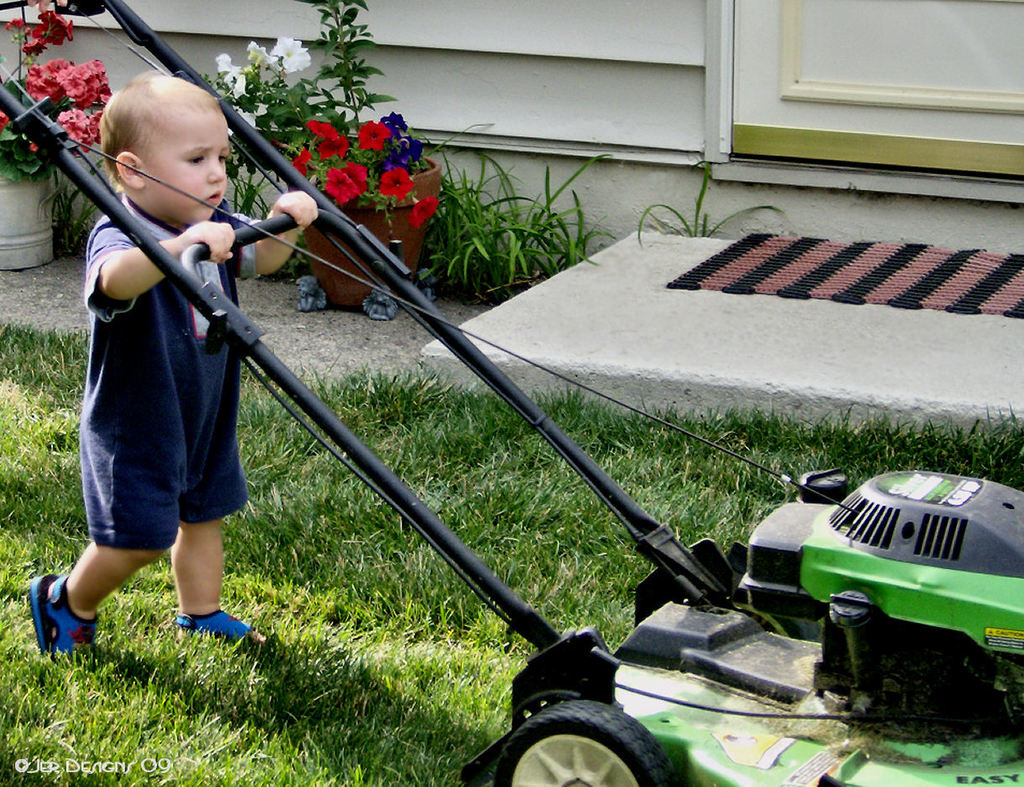Person: (29, 69, 318, 667)
